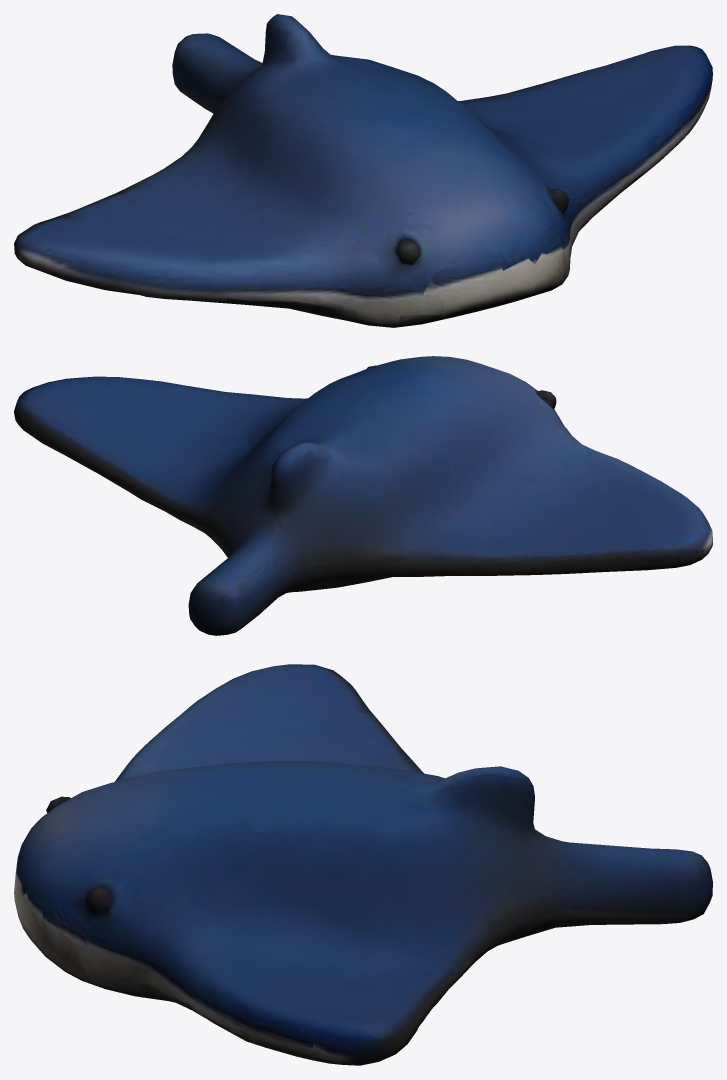
Rendered from manta.glb.
The picture shows the model from 3 angles, top to bottom: view 1: azimuth 30°, elevation 25°; view 2: azimuth 150°, elevation 25°; view 3: azimuth 270°, elevation 25°; orthographic projection. The views are drawn at different scales.
Parts seen in each view (by area): view 1: low; view 2: low; view 3: low.
Boxes of the visible parts, x1=… form: low: x1=14, y1=14, x2=712, y2=327; low: x1=14, y1=356, x2=712, y2=635; low: x1=14, y1=664, x2=712, y2=1065.
Bounding box in the file's own units: 8.61 × 2 × 6.59.
Materials: 1 (1 with a texture image).
